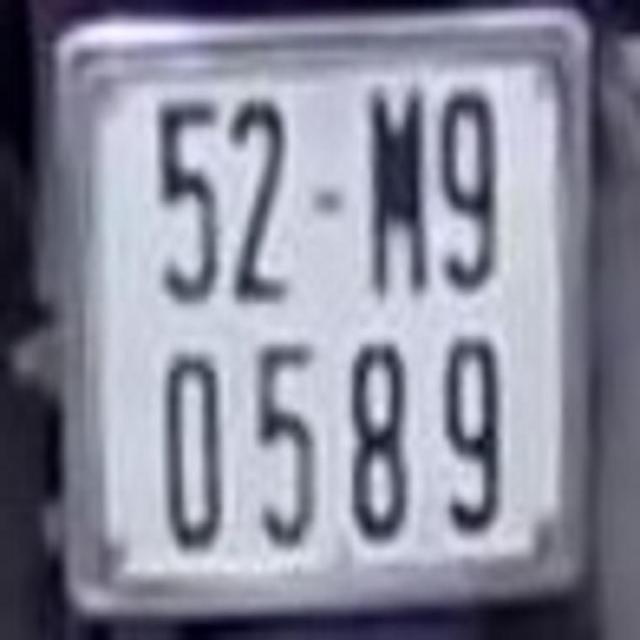0: (172, 362, 222, 545)
2: (231, 107, 296, 311)
5: (153, 108, 226, 295), (255, 344, 312, 546)
8: (348, 352, 410, 542)
9: (448, 340, 499, 535), (439, 106, 492, 288)
M: (362, 102, 426, 286)
